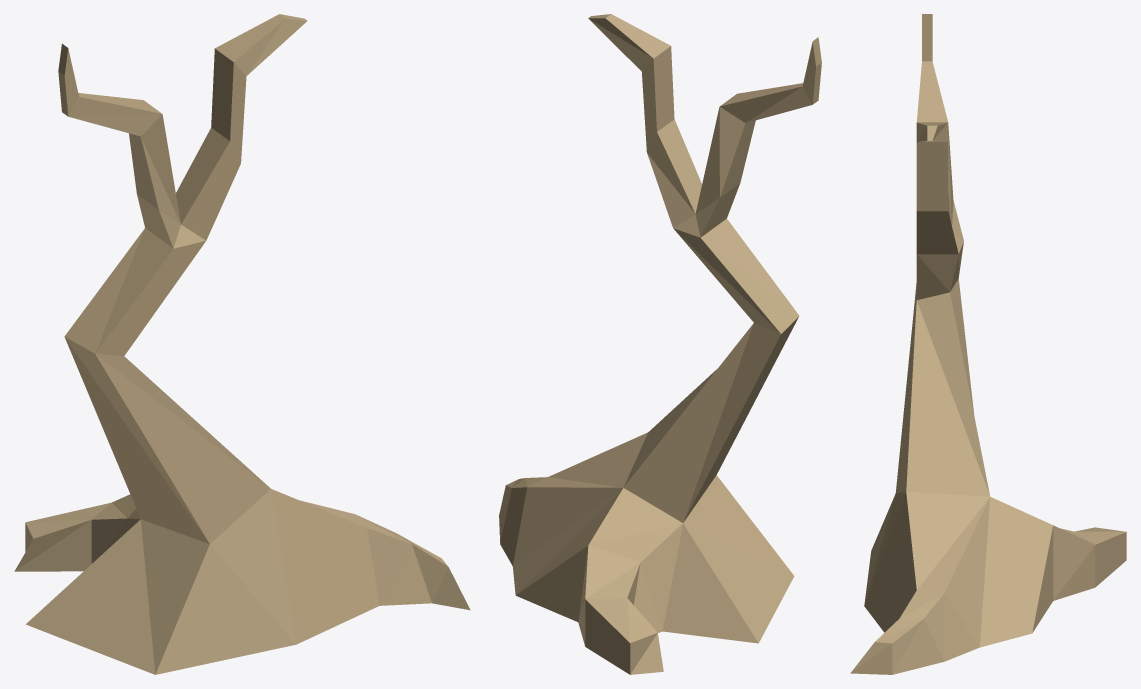
File: obj_dead_tree_9_0.obj
3 views of the same model, side by side, from view 1: azimuth 30°, elevation 25°; view 2: azimuth 150°, elevation 25°; view 3: azimuth 270°, elevation 25° (orthographic). The views are drawn at different scales.
Bounding box in the file's own units: 1.57 × 2.53 × 1.23.
